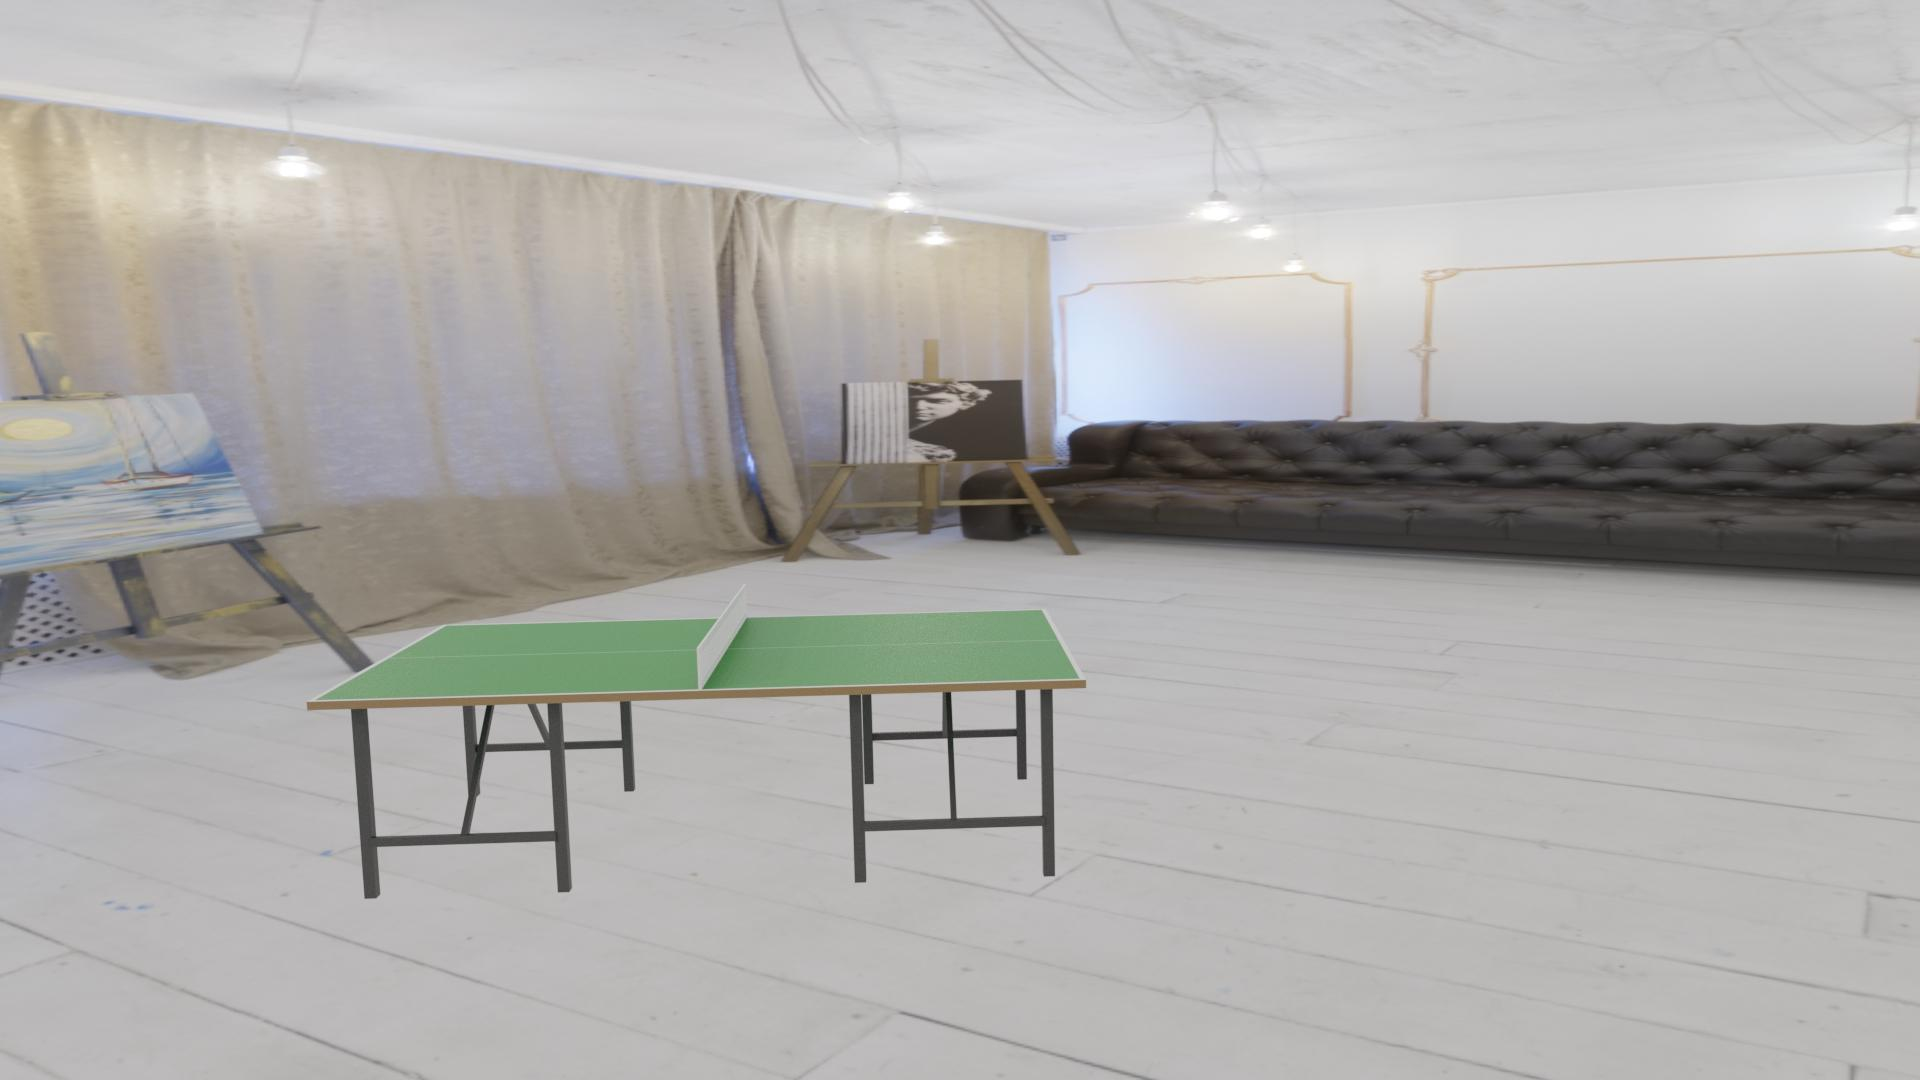table: (315, 609, 1080, 700)
